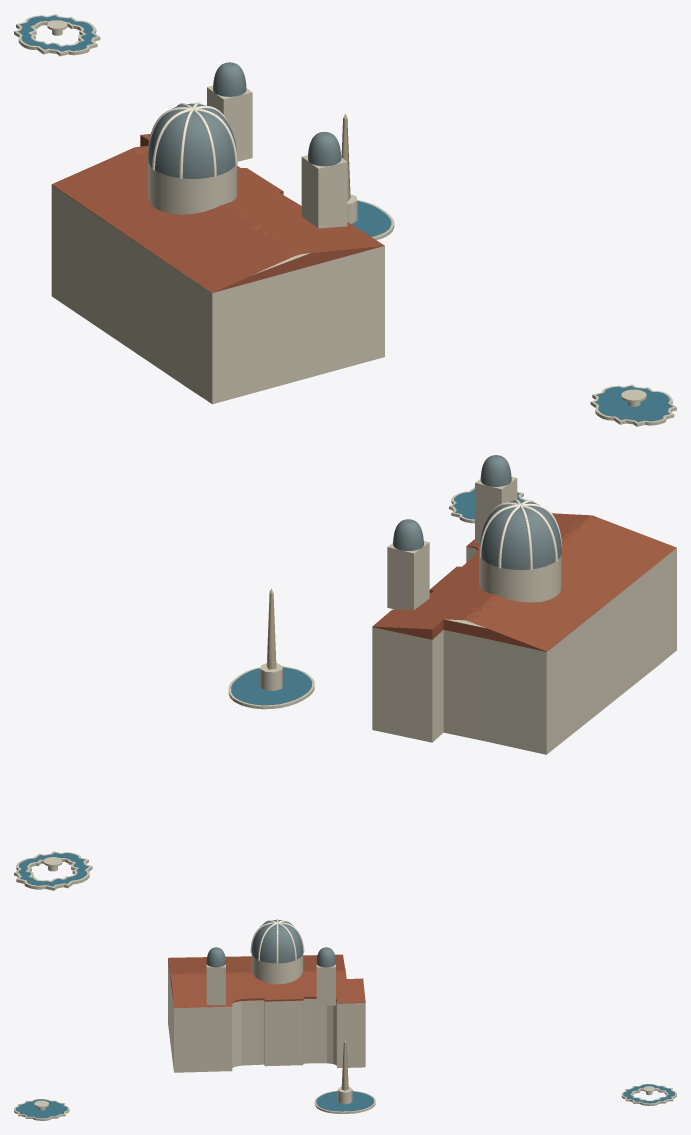
Rendered from piazza-navona.glb.
The picture shows the model from 3 angles, top to bottom: view 1: azimuth 30°, elevation 25°; view 2: azimuth 150°, elevation 25°; view 3: azimuth 270°, elevation 25°; orthographic projection. The views are drawn at different scales.
Parts seen in each view (by area): view 1: sant-agnese-envelope, roof, sant-agnese-bell-tower, sant-agnese-dome, fountain-water, sant-agnese-drum, fountain-basin, sant-agnese-bell-cap, sant-agnese-dome-rib; view 2: sant-agnese-envelope, roof, sant-agnese-dome, sant-agnese-bell-tower, fountain-water, sant-agnese-drum, fountain-basin, sant-agnese-bell-cap, sant-agnese-dome-rib; view 3: sant-agnese-envelope, roof, fountain-water, sant-agnese-dome, sant-agnese-bell-tower, sant-agnese-drum, fountain-basin, sant-agnese-bell-cap, sant-agnese-dome-rib.
Part boxes in pixels (x1,y1,x2,y2): sant-agnese-envelope: (51, 185, 384, 404); roof: (51, 134, 384, 292); sant-agnese-bell-tower: (207, 86, 347, 228); sant-agnese-dome: (148, 103, 236, 178); fountain-water: (18, 15, 672, 421); sant-agnese-drum: (148, 160, 237, 214); fountain-basin: (14, 14, 676, 426); sant-agnese-bell-cap: (213, 62, 341, 166); sant-agnese-dome-rib: (147, 102, 237, 178); sant-agnese-envelope: (372, 546, 676, 754); roof: (372, 513, 676, 651); sant-agnese-dome: (479, 500, 561, 569); sant-agnese-bell-tower: (387, 477, 517, 610); fountain-water: (18, 489, 523, 886); sant-agnese-drum: (479, 554, 561, 602); fountain-basin: (14, 487, 527, 890); sant-agnese-bell-cap: (393, 455, 511, 550); sant-agnese-dome-rib: (479, 499, 561, 569); sant-agnese-envelope: (168, 960, 365, 1072); roof: (168, 954, 365, 1008); fountain-water: (15, 1084, 675, 1118); sant-agnese-dome: (251, 920, 303, 963); sant-agnese-bell-tower: (206, 959, 335, 1005); sant-agnese-drum: (251, 953, 303, 984); fountain-basin: (14, 1084, 676, 1120); sant-agnese-bell-cap: (206, 947, 335, 967); sant-agnese-dome-rib: (250, 919, 304, 963).
Bounding box in the file's own units: 5.8 × 3.23 × 16.
